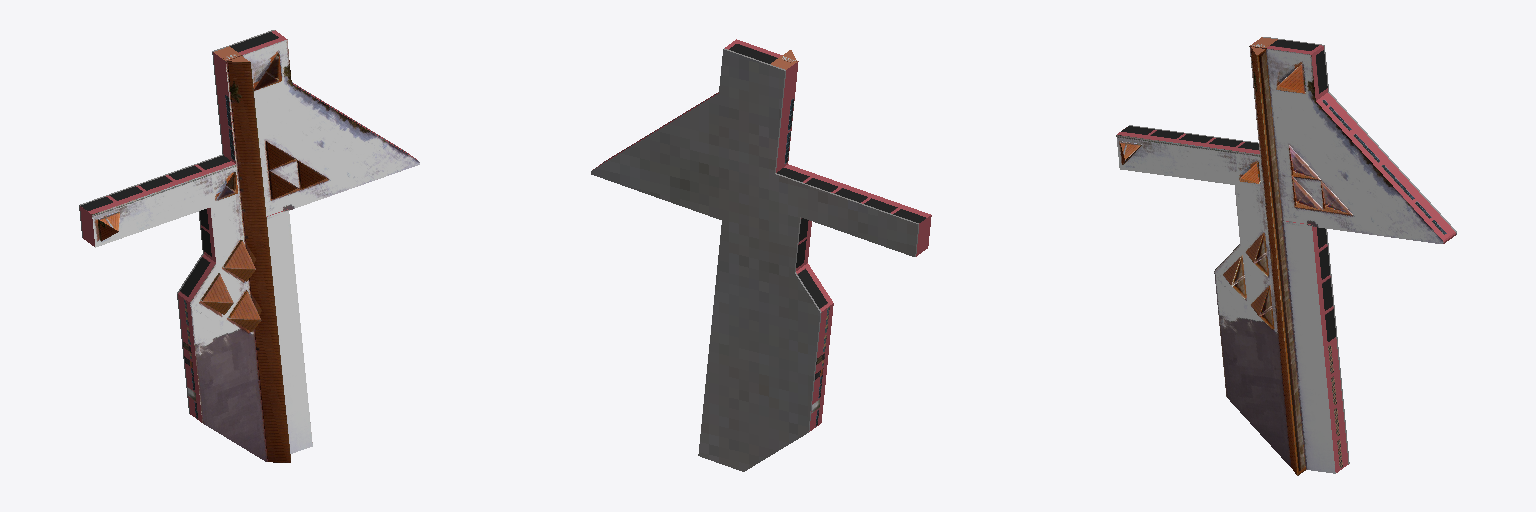
3 views of the same model, side by side, from view 1: azimuth 30°, elevation 25°; view 2: azimuth 150°, elevation 25°; view 3: azimuth 330°, elevation 25° (orthographic).
Parts seen in each view (by area): view 1: polygon.012; view 2: polygon.012; view 3: polygon.012.
Part boxes in pixels (x1,y1,x2,y2): polygon.012: (79,30,419,462); polygon.012: (591,39,931,471); polygon.012: (1116,37,1456,475).
Size of the model in its own units: 83.5 by 102 by 11.78.
Materials: 1 (1 with a texture image).